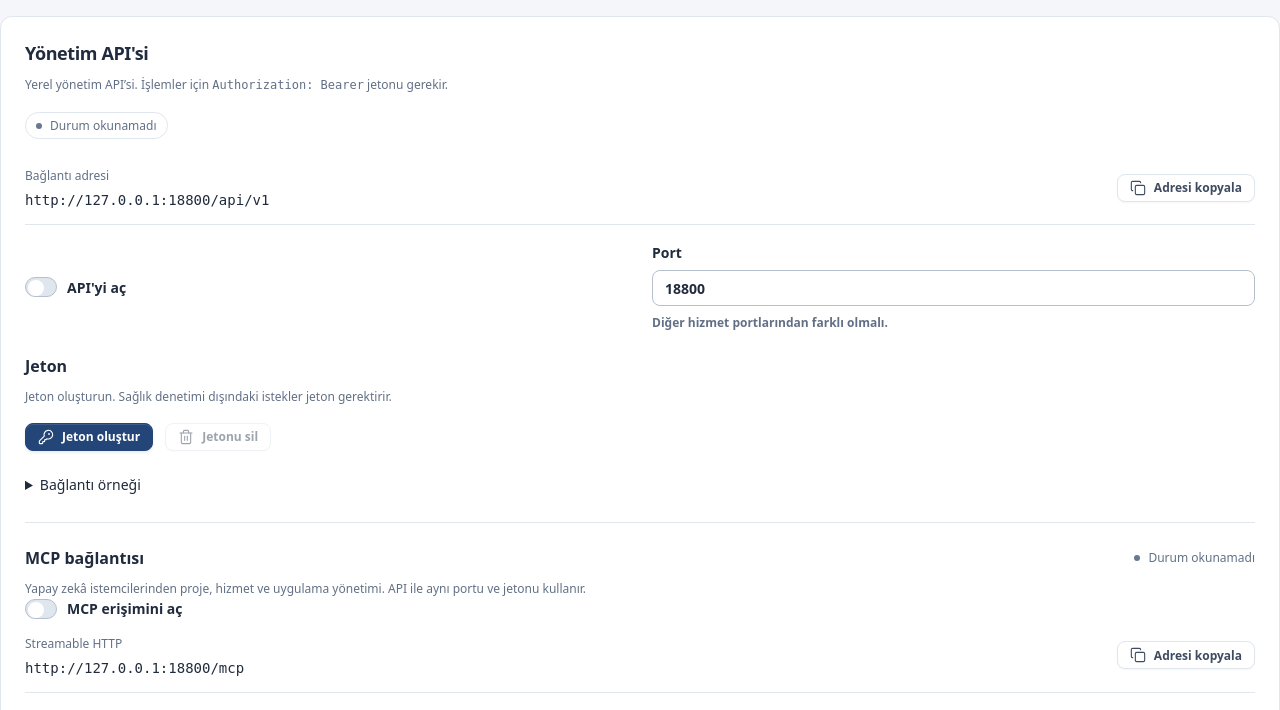
API token creation issues a fresh real IPC read instead of joining the pre-mutation poll
Click the button "Jeton oluştur".
click(89, 437)  # box [25,423,153,451]
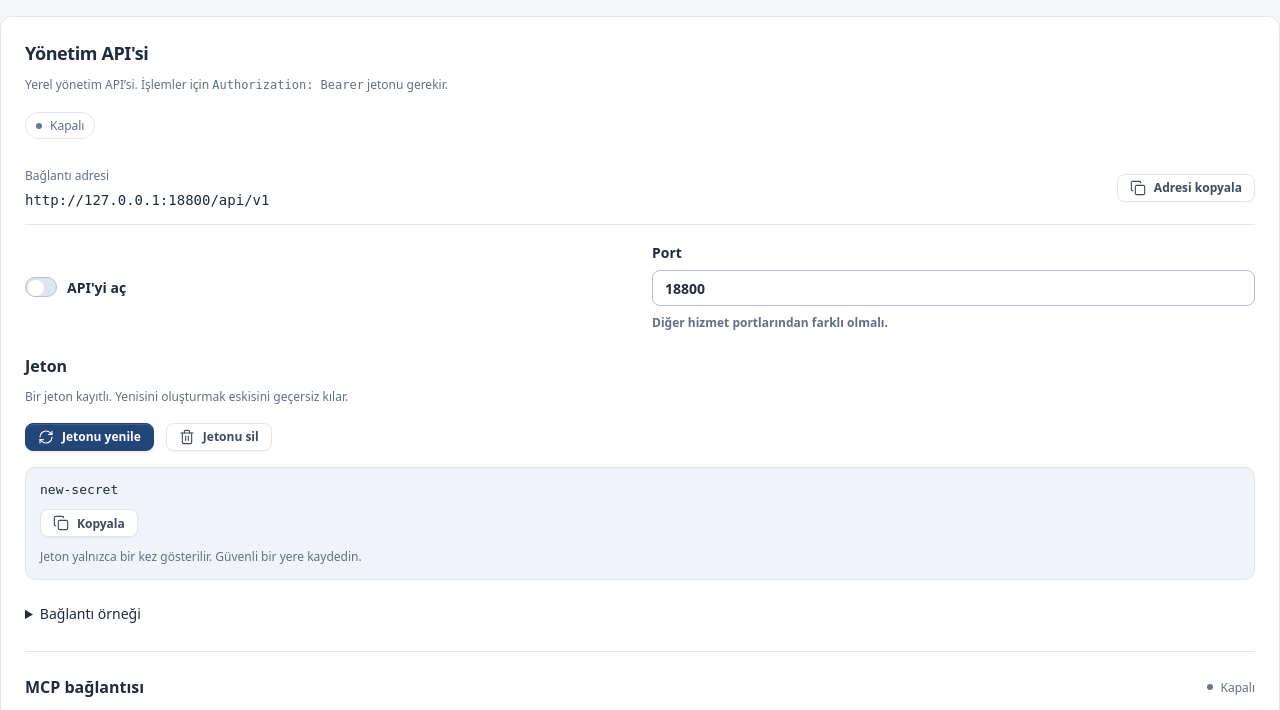
Expected: the button "Jetonu yenile" is shown, [25,423,154,451]
Expected: the button "Jetonu sil" is enabled, [166,423,272,451]
